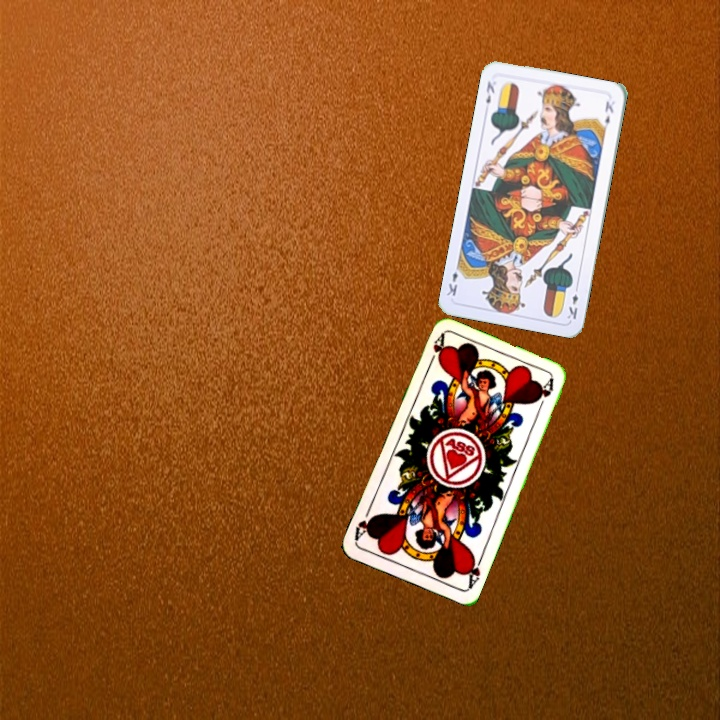EK: (563, 281, 581, 322), (482, 77, 497, 106)
HA: (462, 551, 486, 591), (424, 331, 447, 370)
